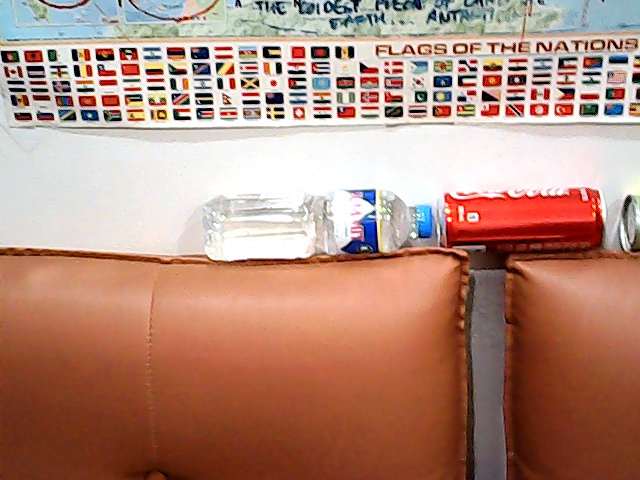Cola: (436, 177, 607, 262)
Summit Water: (198, 178, 437, 270)
